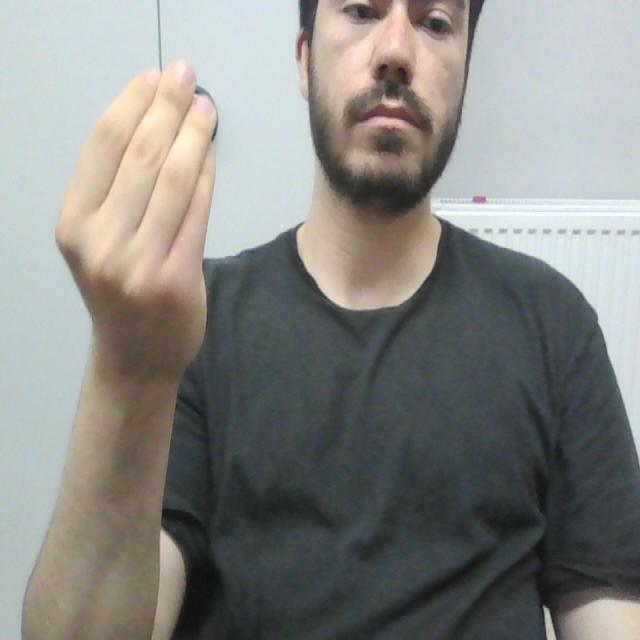iyi: (55, 54, 226, 290)
